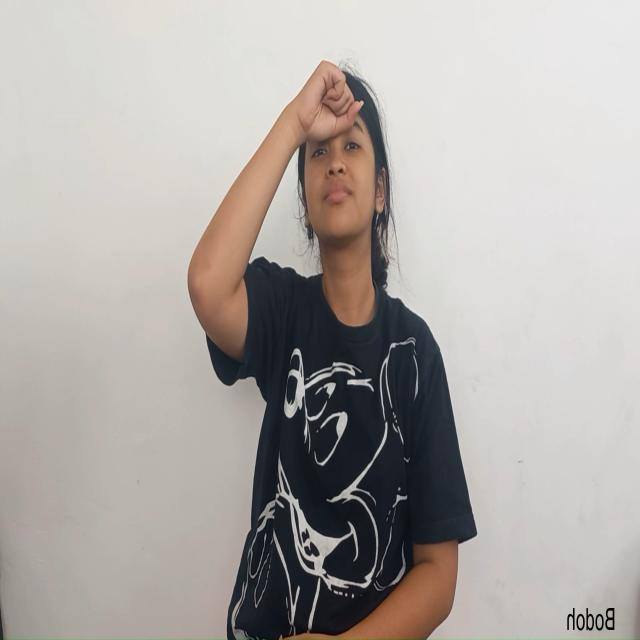Bodoh -BISINDO-: (205, 36, 433, 355)
